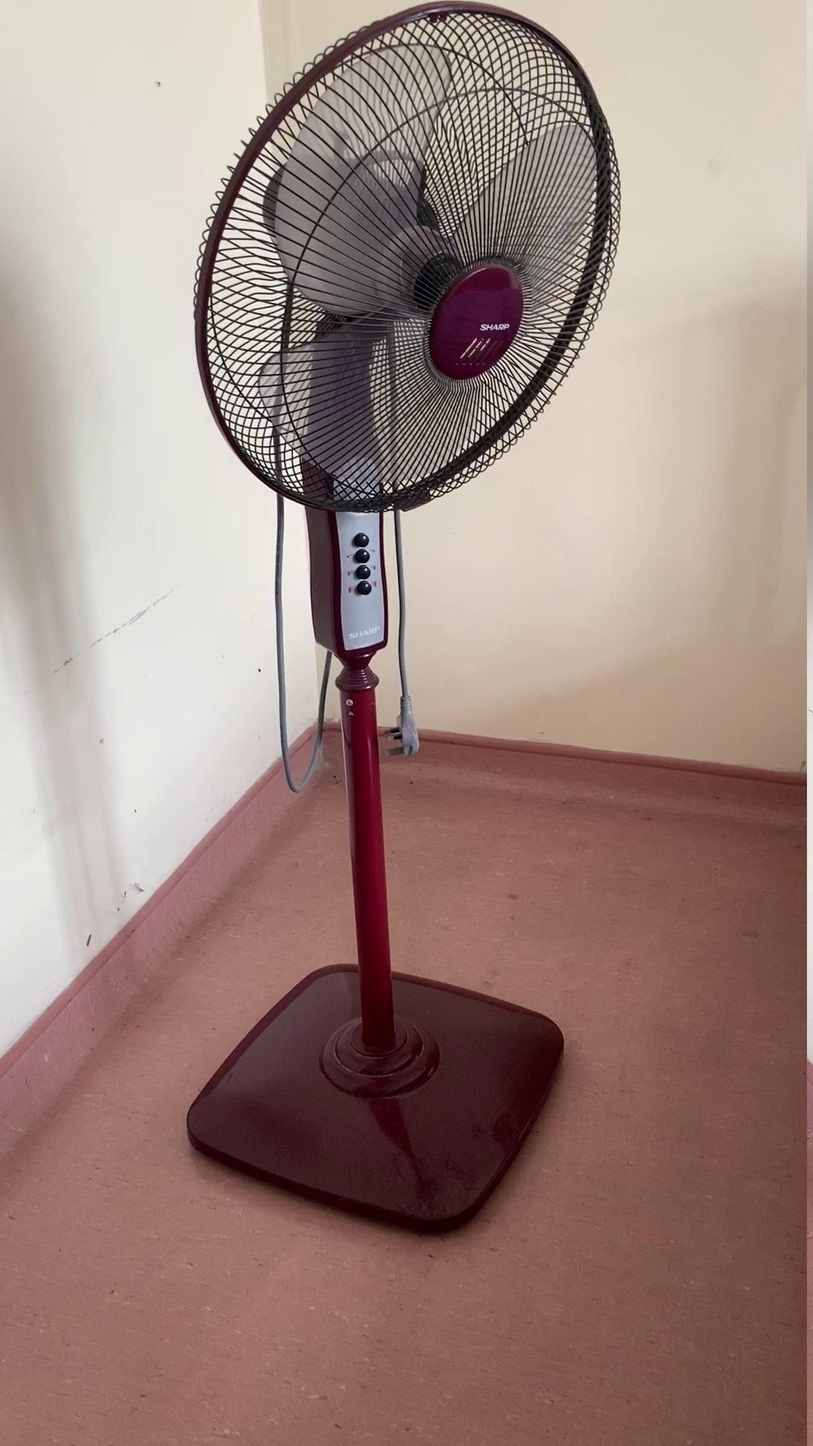fan: (125, 0, 655, 1268)
